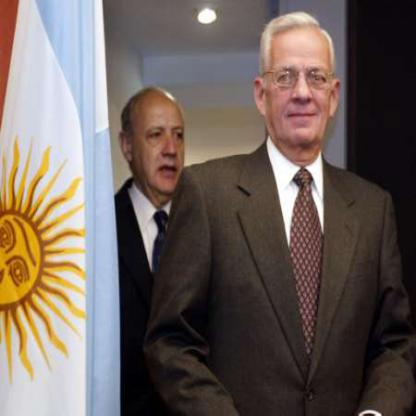face: (263, 17, 333, 149), (132, 88, 187, 196)
